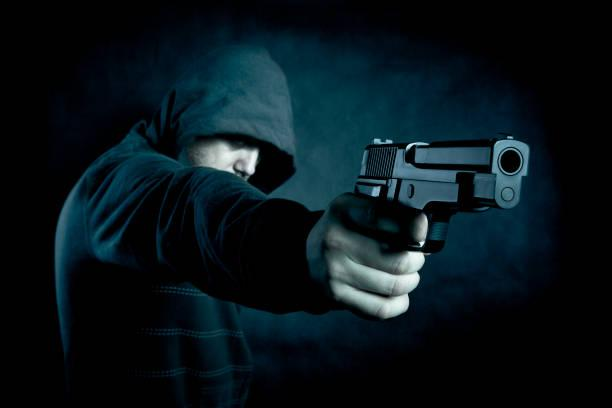weapon: (354, 132, 533, 256)
